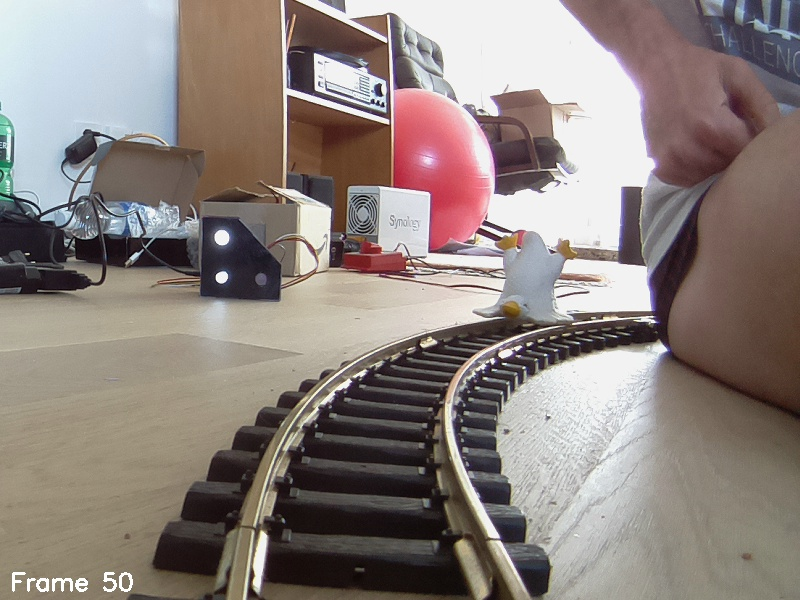Ente: (475, 230, 578, 334)
Fahrt: (198, 214, 281, 301)
